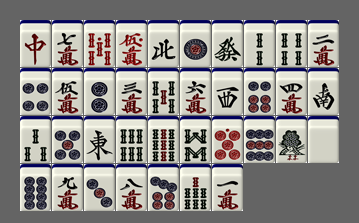0m: (116, 20, 147, 67)
0p: (212, 116, 243, 163)
0s: (84, 20, 115, 67)
1m: (212, 164, 243, 211)
1p: (180, 20, 211, 67)
1s: (276, 116, 307, 163)
1z: (84, 116, 115, 163)
2m: (308, 20, 339, 67)
2p: (84, 68, 115, 115)
2s: (244, 20, 275, 67)
2z: (308, 68, 339, 115)
3m: (116, 68, 147, 115)
3p: (84, 164, 115, 211)
3s: (20, 116, 51, 163)
3z: (212, 68, 243, 115)
4m: (276, 68, 307, 115)
4p: (20, 68, 51, 115)
4s: (276, 20, 307, 67)
4z: (148, 20, 179, 67)
5m: (52, 68, 83, 115)
5p: (52, 116, 83, 163)
5s: (148, 68, 179, 115)
5z: (308, 116, 339, 163)
6m: (180, 68, 211, 115)
6p: (244, 68, 275, 115)
6s: (116, 116, 147, 163)
6z: (212, 20, 243, 67)
7m: (52, 20, 83, 67)
7p: (148, 164, 179, 211)
7s: (180, 164, 211, 211)
7z: (20, 20, 51, 67)
8m: (116, 164, 147, 211)
8p: (20, 164, 51, 211)
8s: (180, 116, 211, 163)
9m: (52, 164, 83, 211)
9p: (244, 116, 275, 163)
9s: (148, 116, 179, 163)
